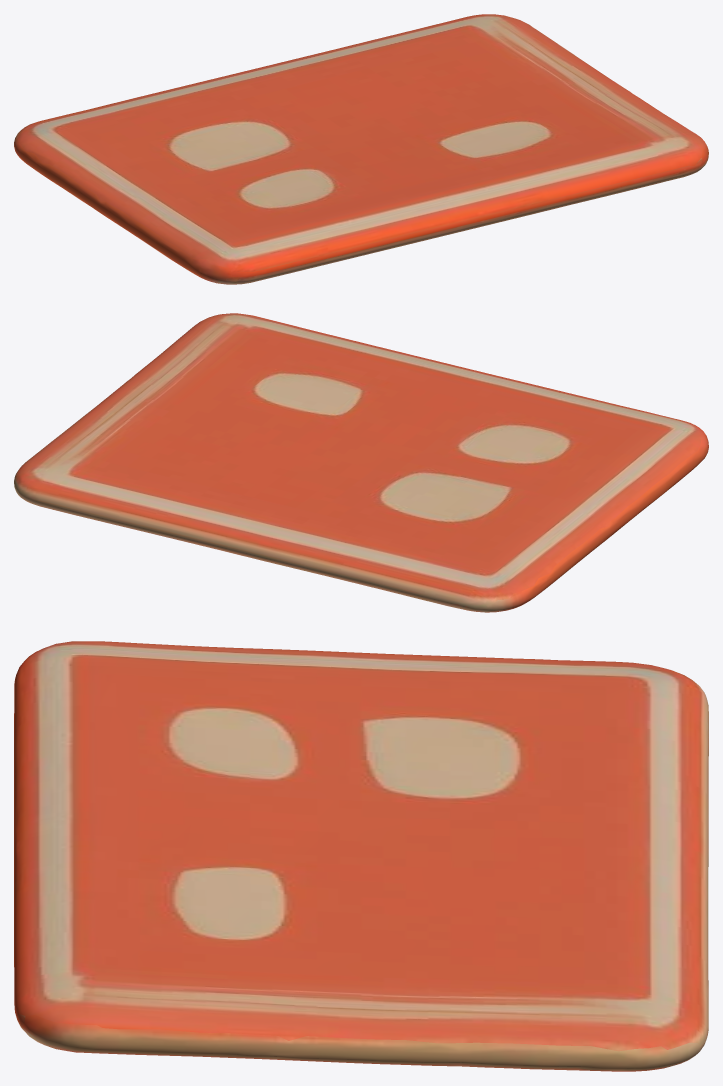
File: carpet_cozy.glb
3 renders of one model, top to bottom at view 1: azimuth 30°, elevation 25°; view 2: azimuth 150°, elevation 25°; view 3: azimuth 270°, elevation 25°, orthographic. The views are drawn at different scales.
Parts seen in each view (by area): view 1: textured_mesh.obj; view 2: textured_mesh.obj; view 3: textured_mesh.obj.
Part boxes in pixels (bbox=[...]): textured_mesh.obj: bbox=[14, 14, 708, 284]; textured_mesh.obj: bbox=[14, 313, 708, 612]; textured_mesh.obj: bbox=[14, 641, 708, 1071].
Size of what is drawn, in the model's own units: 2.2 by 0.1781 by 1.66.
Materials: 1 (1 with a texture image).
